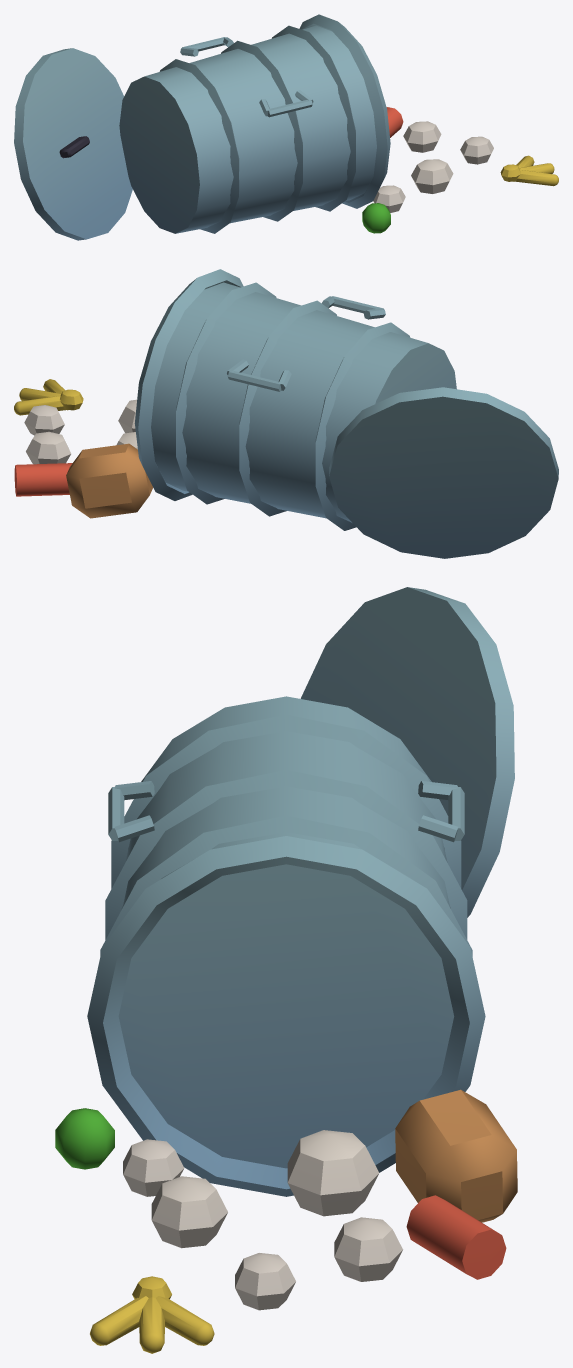
Rendered from hz_bin_tipped.glb.
The picture shows the model from 3 angles, top to bottom: view 1: azimuth 30°, elevation 25°; view 2: azimuth 150°, elevation 25°; view 3: azimuth 270°, elevation 25°; orthographic projection. The views are drawn at different scales.
Parts seen in each view (by area): view 1: hz_bin_tipped; view 2: hz_bin_tipped; view 3: hz_bin_tipped.
Boxes of the visible parts, x1,y1,x2,y2 form: hz_bin_tipped: (14,14,558,240); hz_bin_tipped: (14,269,558,558); hz_bin_tipped: (55,587,517,1353).
Size of the model in its own units: 2.54 by 0.89 by 1.03.
